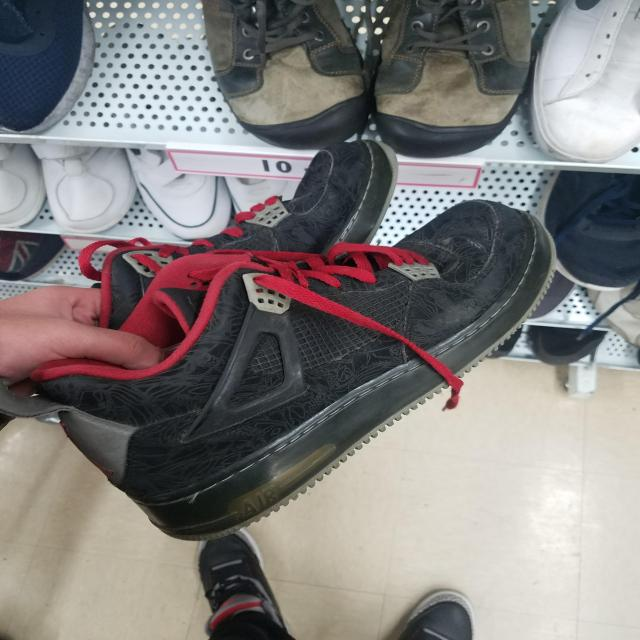shoe: (16, 189, 570, 559), (178, 514, 298, 640), (367, 568, 495, 640)
